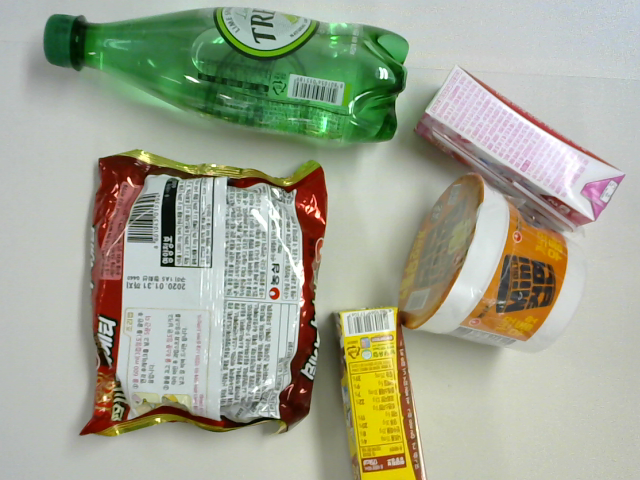Choco_E_Mong: (315, 308, 419, 480)
Sichuan_Chapaghetti: (100, 157, 347, 415)
Strawberry_E_Mong: (413, 70, 612, 231)
Treviraim_500ml: (44, 1, 408, 146)
Udongmini: (378, 162, 580, 357)
